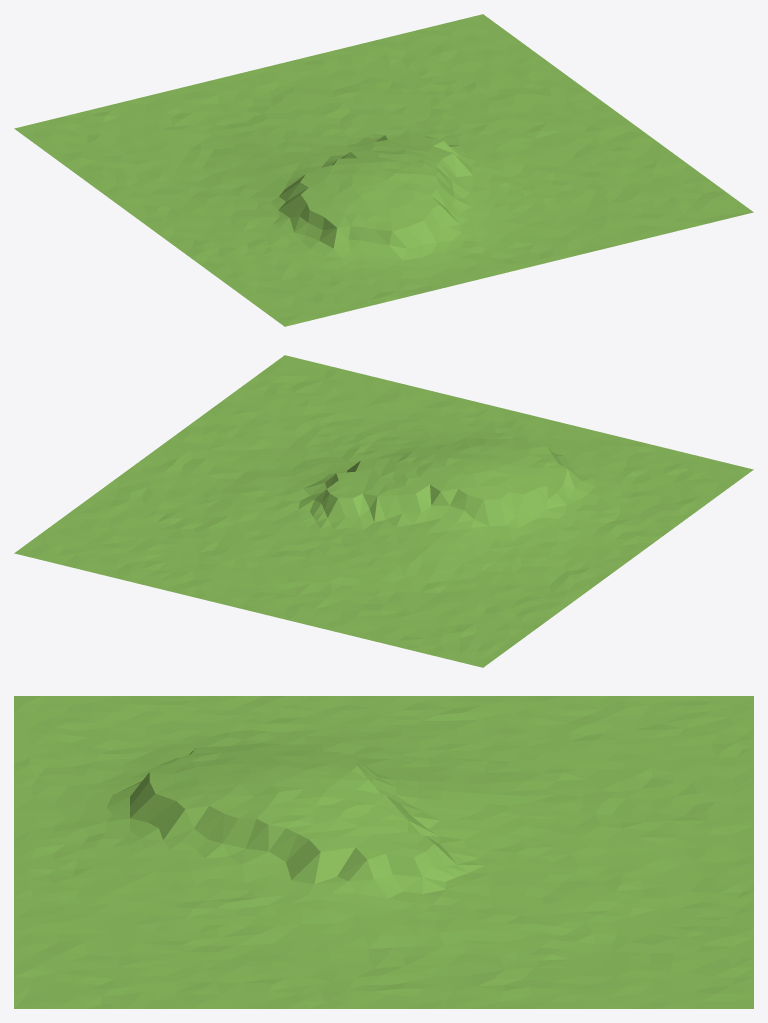
Rendered from MT_Terrain_L_c_16.fbx.
3 views of the same model, one above another, from view 1: azimuth 30°, elevation 25°; view 2: azimuth 150°, elevation 25°; view 3: azimuth 270°, elevation 25° (orthographic). The views are drawn at different scales.
Visible parts, largest first — view 1: MT_Terrain_L_c_16; view 2: MT_Terrain_L_c_16; view 3: MT_Terrain_L_c_16.
Boxes of the visible parts, x1,y1,x2,y2 form: MT_Terrain_L_c_16: (14,14,753,326); MT_Terrain_L_c_16: (14,355,753,667); MT_Terrain_L_c_16: (14,696,753,1008).
Size of the model in its own units: 10000 by 650 by 10000.
